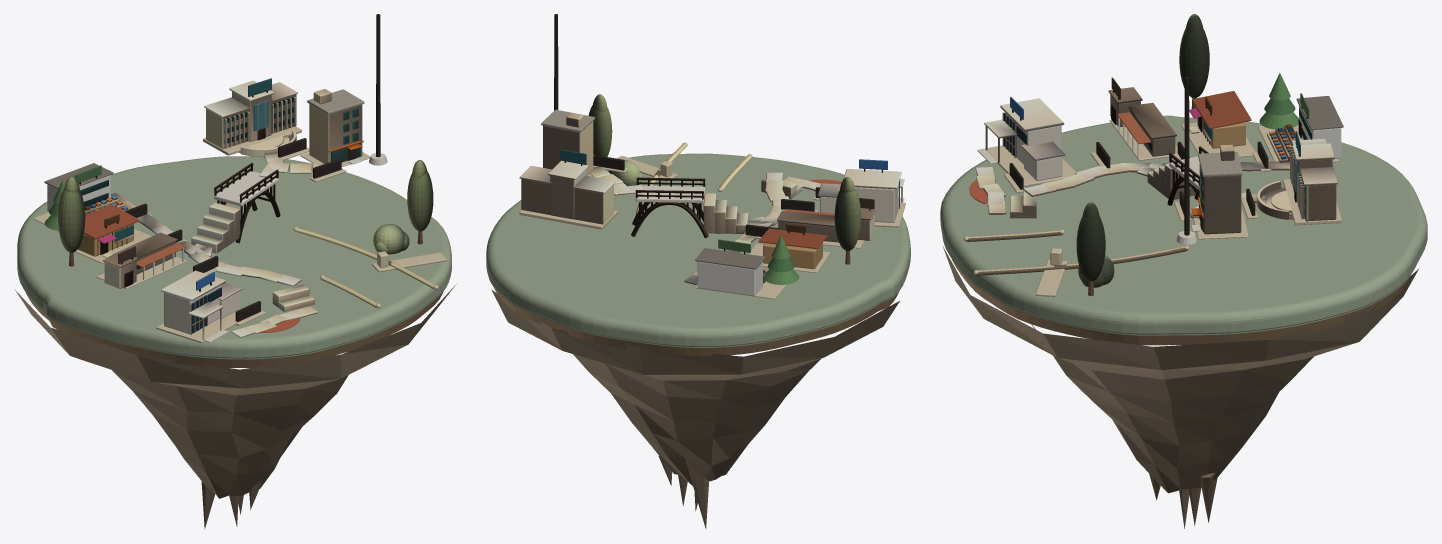
File: baked-4.glb
3 renders of one model, left to right at view 1: azimuth 30°, elevation 25°; view 2: azimuth 150°, elevation 25°; view 3: azimuth 270°, elevation 25°, orthographic. The views are drawn at different scales.
Parts seen in each view (by area): view 1: lm.001, vl.001; view 2: lm.001, vl.001; view 3: lm.001, vl.001.
Part boxes in pixels (x1,y1,x2,y2): lm.001: (14, 14, 455, 529); vl.001: (58, 80, 435, 340); lm.001: (486, 14, 910, 528); vl.001: (519, 94, 904, 284); lm.001: (940, 72, 1427, 528); vl.001: (966, 14, 1337, 287).
Bounding box in the file's own units: 16.13 × 19.38 × 16.02.
